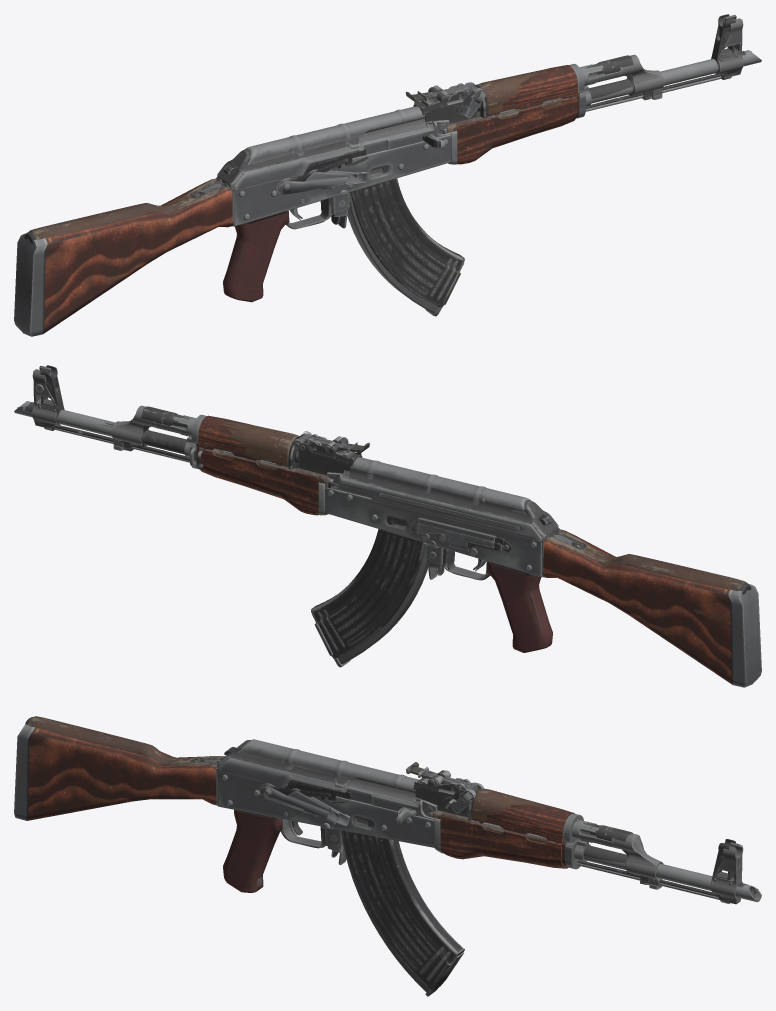
The model's file is weapon_ak47.glb.
3 renders of one model, top to bottom at view 1: azimuth 30°, elevation 25°; view 2: azimuth 150°, elevation 25°; view 3: azimuth 330°, elevation 25°, orthographic.
Parts seen in each view (by area): view 1: weapons/models/ak47/weapon_rif_ak47.vmdl_c.body_legacy, weapons/models/ak47/weapon_rif_ak47.vmdl_c.body_hd; view 2: weapons/models/ak47/weapon_rif_ak47.vmdl_c.body_legacy, weapons/models/ak47/weapon_rif_ak47.vmdl_c.body_hd; view 3: weapons/models/ak47/weapon_rif_ak47.vmdl_c.body_legacy, weapons/models/ak47/weapon_rif_ak47.vmdl_c.body_hd.
Boxes of the visible parts, <box> form: weapons/models/ak47/weapon_rif_ak47.vmdl_c.body_legacy: <box>14,15,761,336</box>; weapons/models/ak47/weapon_rif_ak47.vmdl_c.body_hd: <box>24,14,751,307</box>; weapons/models/ak47/weapon_rif_ak47.vmdl_c.body_legacy: <box>14,366,761,687</box>; weapons/models/ak47/weapon_rif_ak47.vmdl_c.body_hd: <box>17,365,751,658</box>; weapons/models/ak47/weapon_rif_ak47.vmdl_c.body_legacy: <box>14,724,761,996</box>; weapons/models/ak47/weapon_rif_ak47.vmdl_c.body_hd: <box>25,716,758,991</box>.
Size of the model in its own units: 37.75 by 11.01 by 3.01.
Materials: 2 (2 with a texture image).
